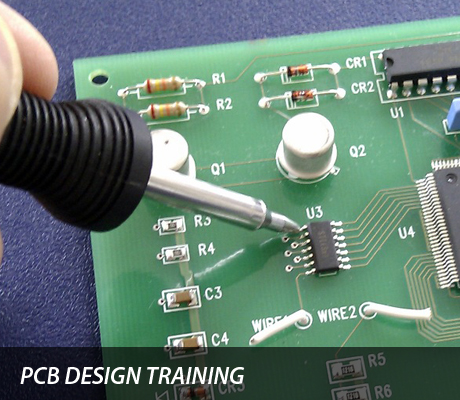Diode: (282, 62, 311, 79), (289, 86, 316, 103)
Resistor: (139, 73, 185, 95), (145, 99, 189, 121)
